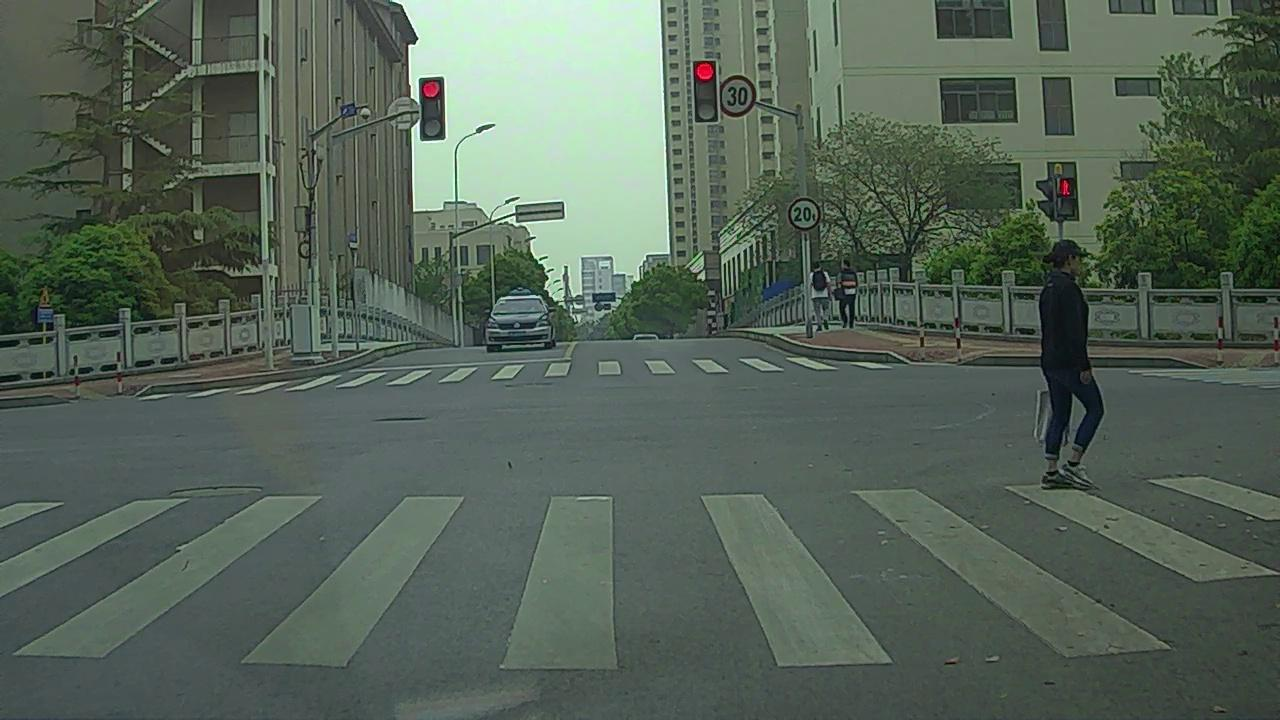traffic_light: (694, 59, 719, 122), (421, 80, 444, 141)
